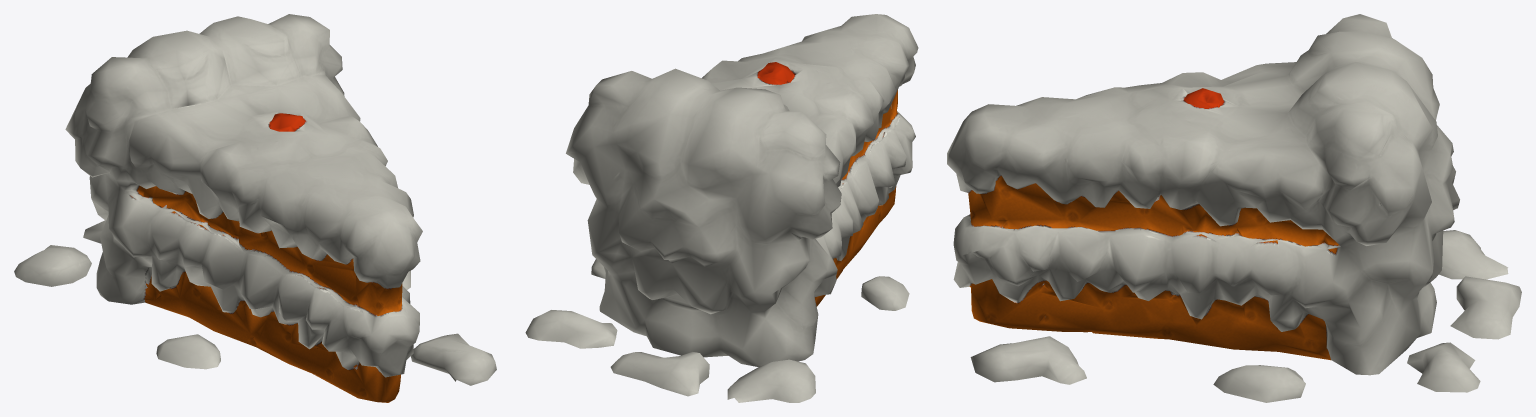
File: cake_slice_LOD0.fbx
3 views of the same model, side by side, from view 1: azimuth 30°, elevation 25°; view 2: azimuth 150°, elevation 25°; view 3: azimuth 270°, elevation 25° (orthographic). The views are drawn at different scales.
Parts seen in each view (by area): view 1: cake_slice_LOD0; view 2: cake_slice_LOD0; view 3: cake_slice_LOD0.
Part boxes in pixels (bbox=[...]): cake_slice_LOD0: bbox=[14, 14, 496, 402]; cake_slice_LOD0: bbox=[525, 14, 918, 402]; cake_slice_LOD0: bbox=[947, 14, 1521, 402].
Size of what is drawn, in the model's own units: 72.8 by 55.51 by 109.
